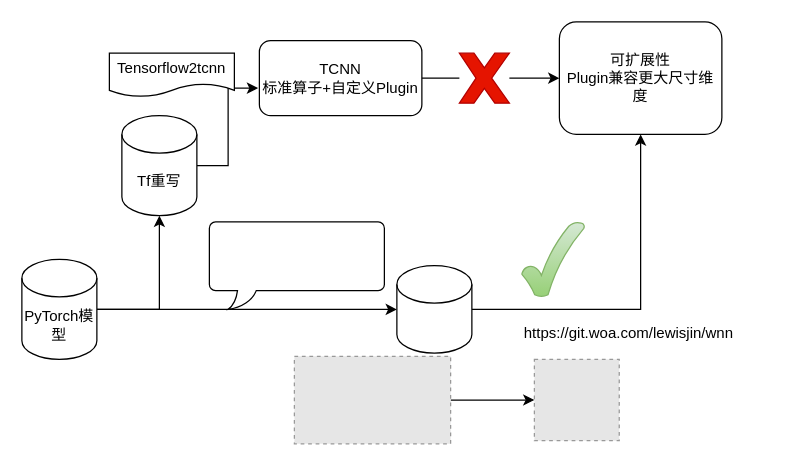
The diagram is 794 pixels wide and 466 high, and some of its shapes have lost their labels. Grey dashed boxes stand in for pictures. Here are the shapes that lost their labels. From the top down, the box of each, then its label:
(208, 221, 384, 309): 1. 重写torch parse算子； 2. 将tcnn算子对齐到pytorch
(396, 264, 472, 353): torch2tcnn torch2wnn
